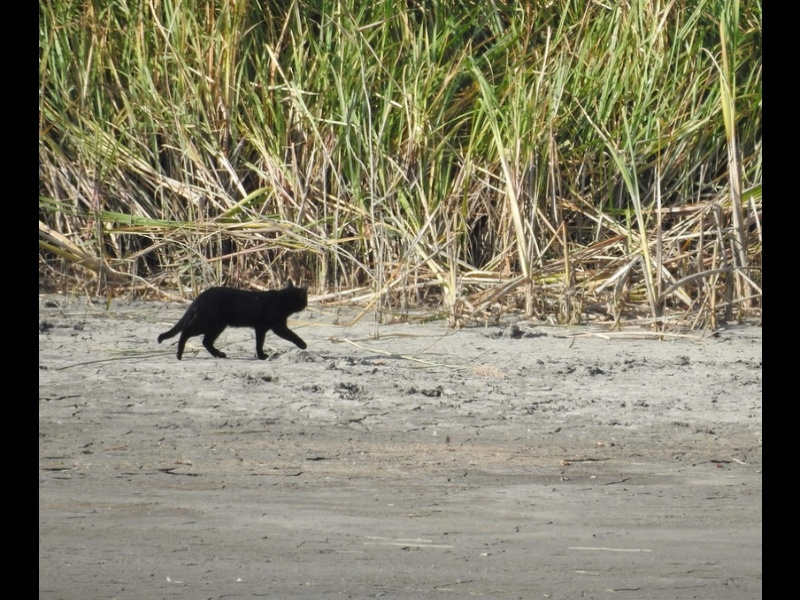cat: (154, 279, 314, 369)
